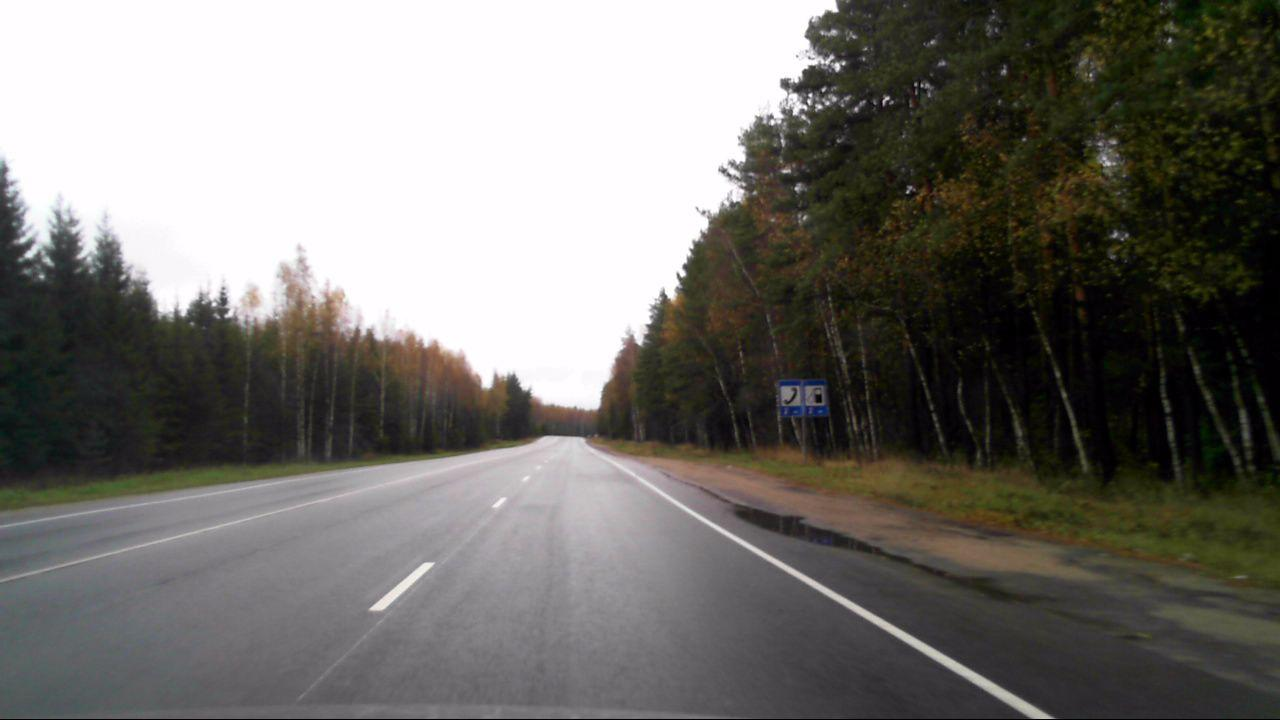7_3: (806, 378, 829, 418)
7_6: (779, 380, 805, 419)
